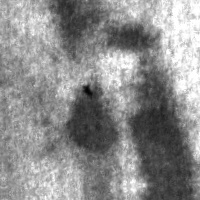patches: (121, 55, 199, 187), (63, 83, 119, 156), (48, 0, 105, 63), (104, 21, 160, 56)
